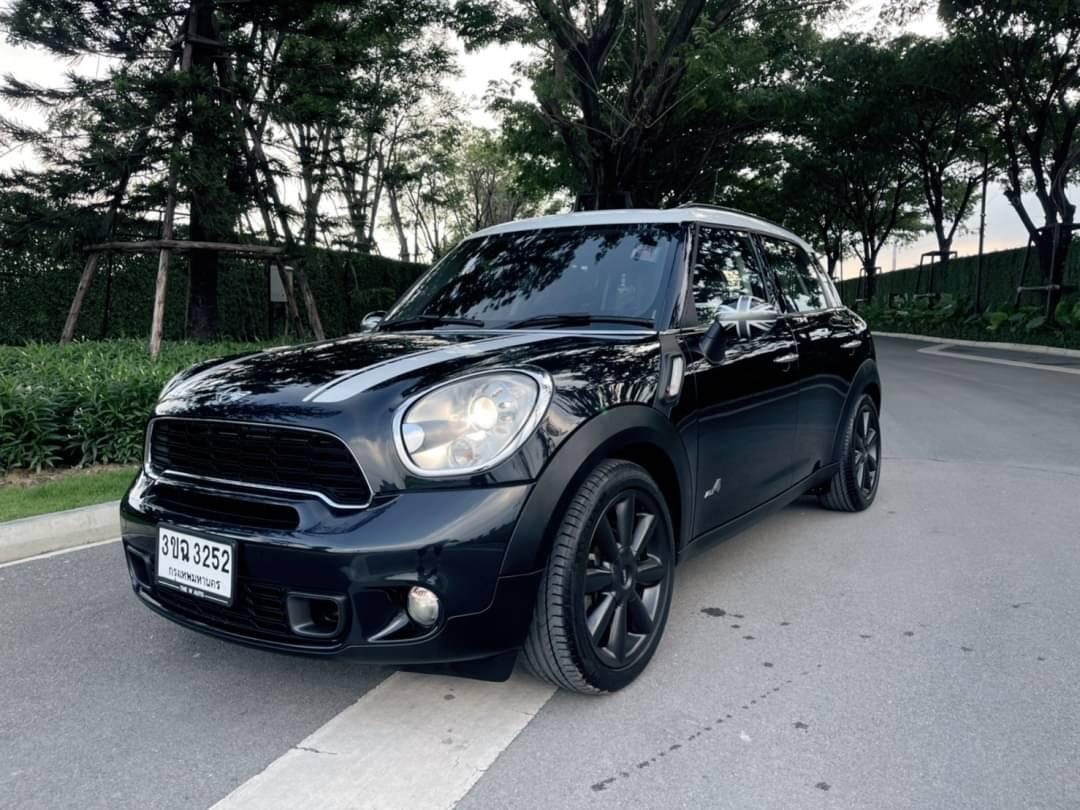license-plate: (154, 516, 236, 605)
